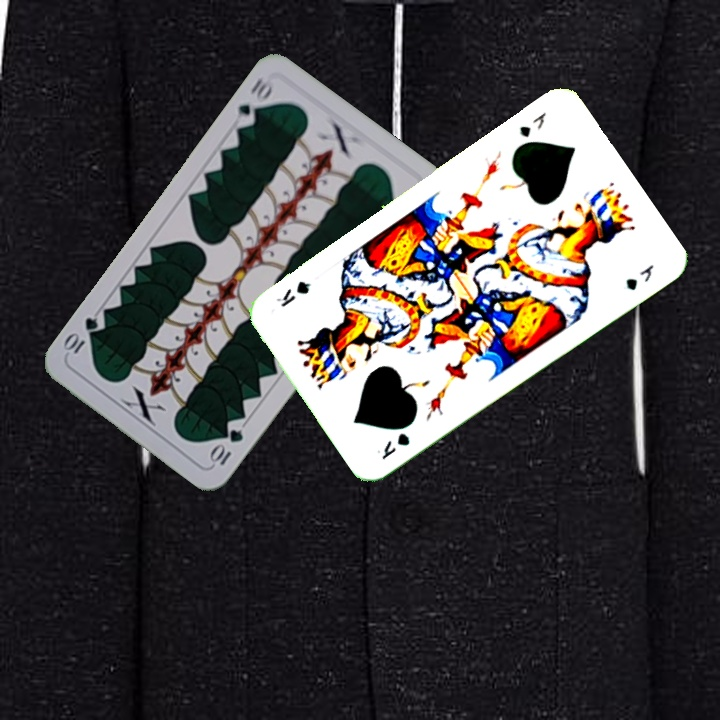G10: (230, 73, 275, 130), (206, 425, 246, 468)
GK: (378, 428, 413, 462), (515, 108, 549, 141)
